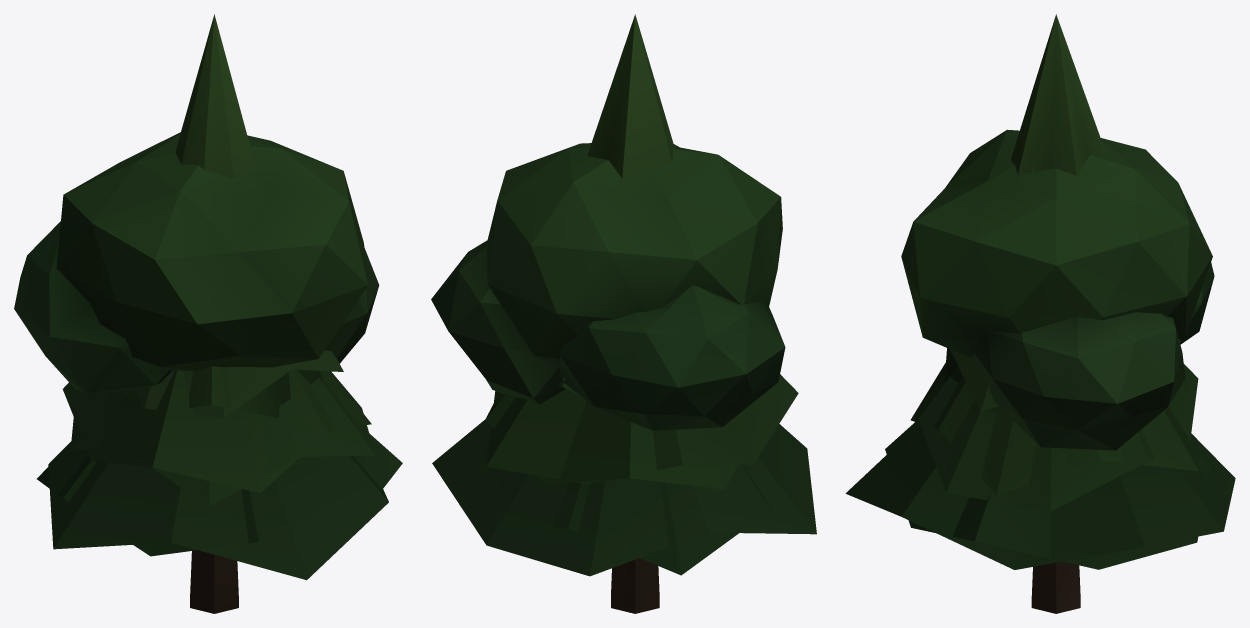
The model's file is trees_grass.glb.
The picture shows the model from 3 angles, left to right: view 1: azimuth 30°, elevation 25°; view 2: azimuth 150°, elevation 25°; view 3: azimuth 270°, elevation 25°; orthographic projection.
Parts seen in each view (by area): view 1: v2, v1, v0; view 2: v2, v1, v0; view 3: v2, v1, v0.
Boxes of the visible parts, x1,y1,x2,y2 form: v2: [14, 132, 379, 392]; v1: [48, 14, 388, 580]; v0: [37, 366, 402, 613]; v2: [431, 143, 785, 430]; v1: [432, 14, 816, 576]; v0: [485, 381, 771, 613]; v2: [901, 129, 1214, 450]; v1: [845, 14, 1235, 569]; v0: [885, 166, 1210, 613].
Bounding box in the file's own units: 0.9191 × 1.5 × 0.9006.
